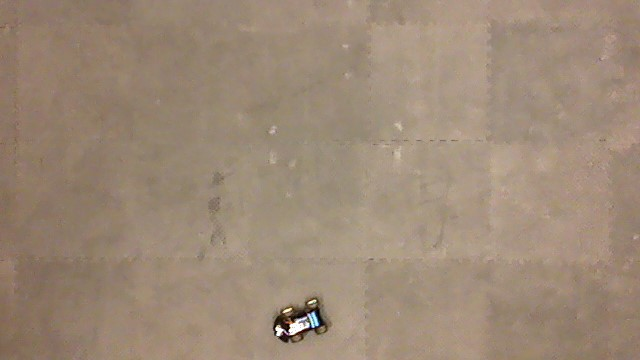Agent: (272, 296, 330, 345)
